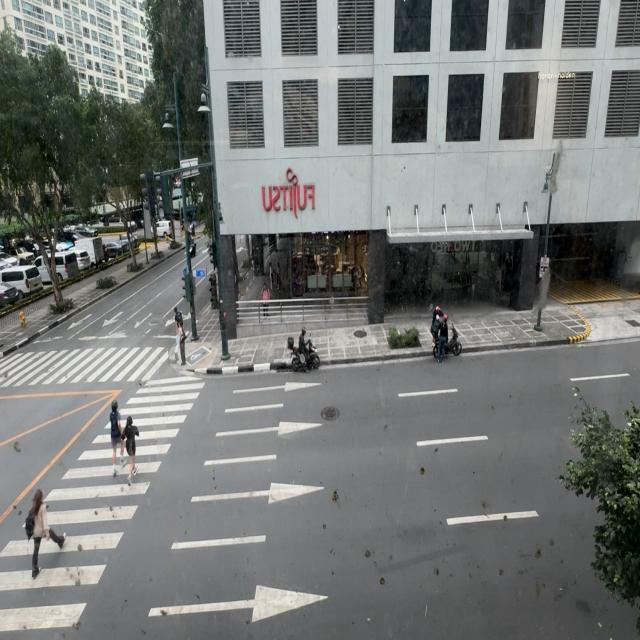waiting: (171, 304, 182, 344), (176, 326, 187, 361)
